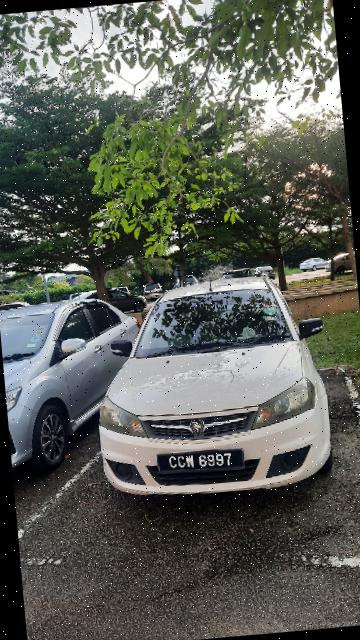License_Plate: (157, 443, 249, 482)
car: (88, 270, 346, 508), (1, 289, 159, 476)
